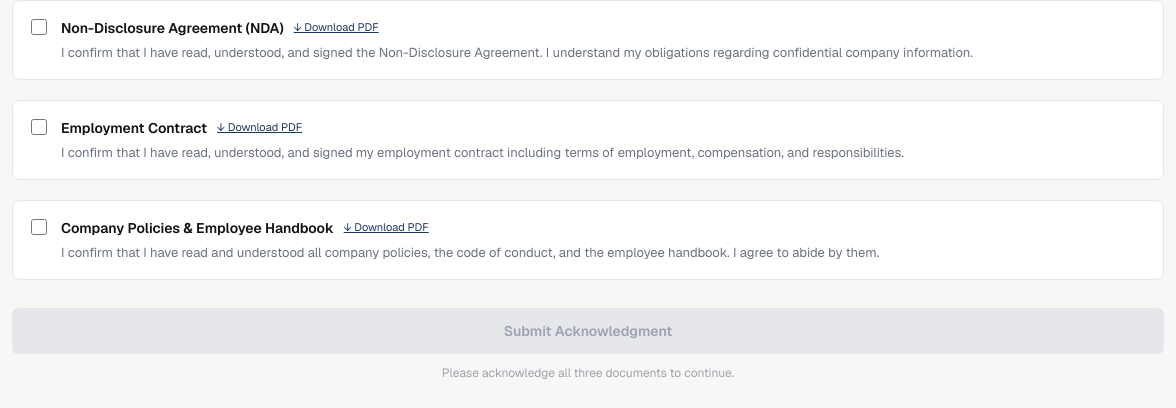
AcknowledgeForm › shows error message when the API returns a non-OK response
Click the 1st checkbox at (39, 27), box [31,19,47,35]
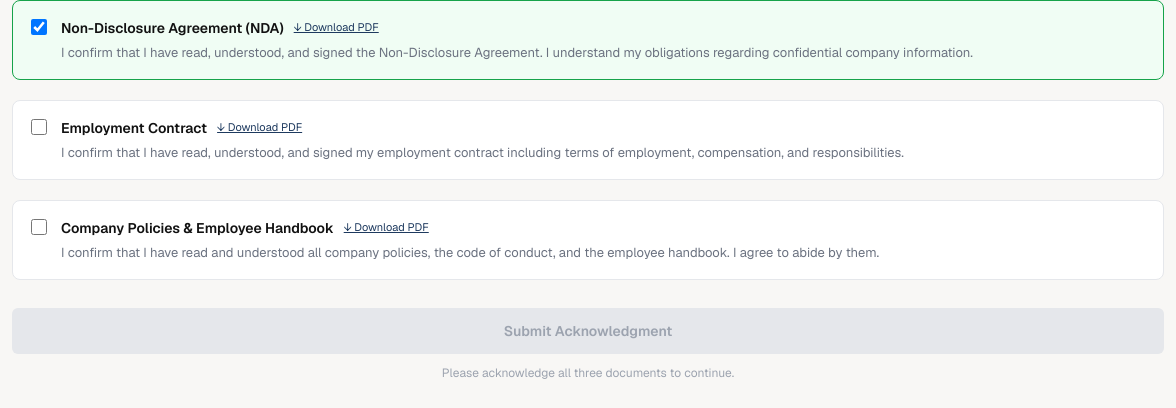
Click the 2nd checkbox at (39, 127), box [31,119,47,135]
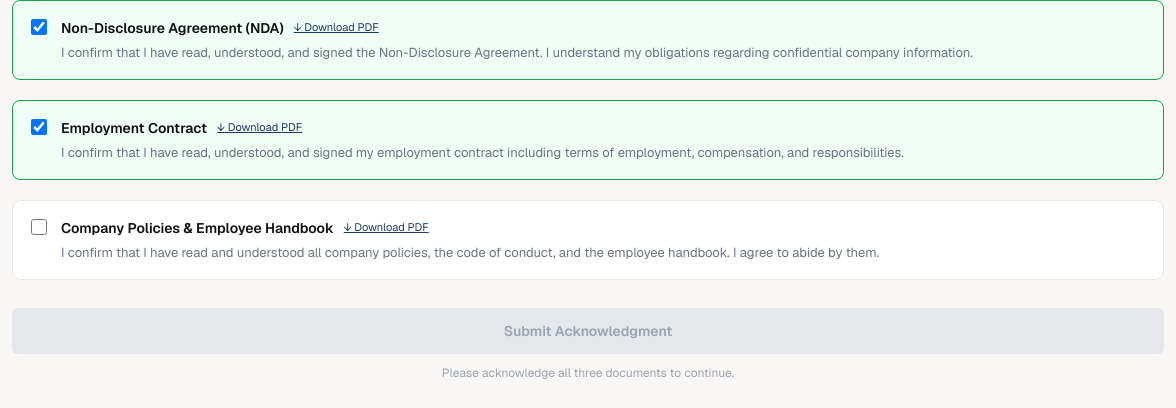
Click the 3rd checkbox at (39, 227), box [31,219,47,235]
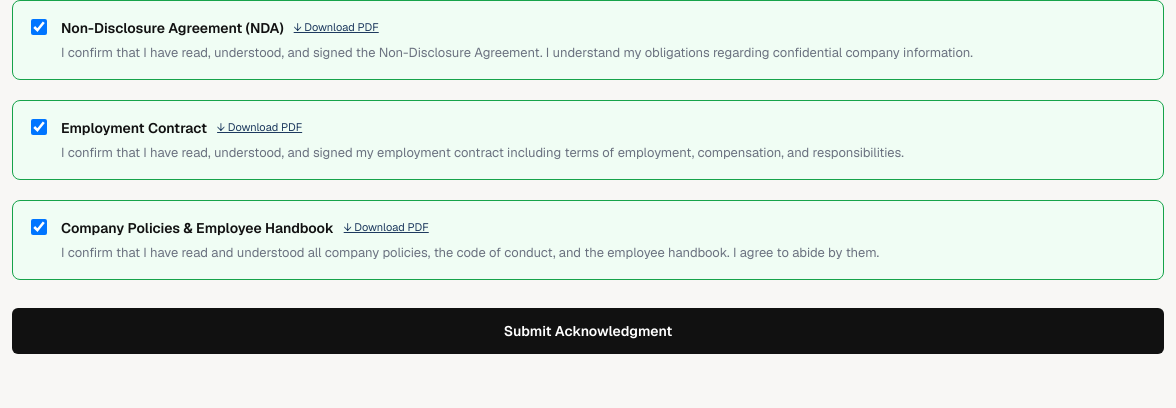
Click the button "Submit Acknowledgment" at (588, 331), box [12,308,1164,354]
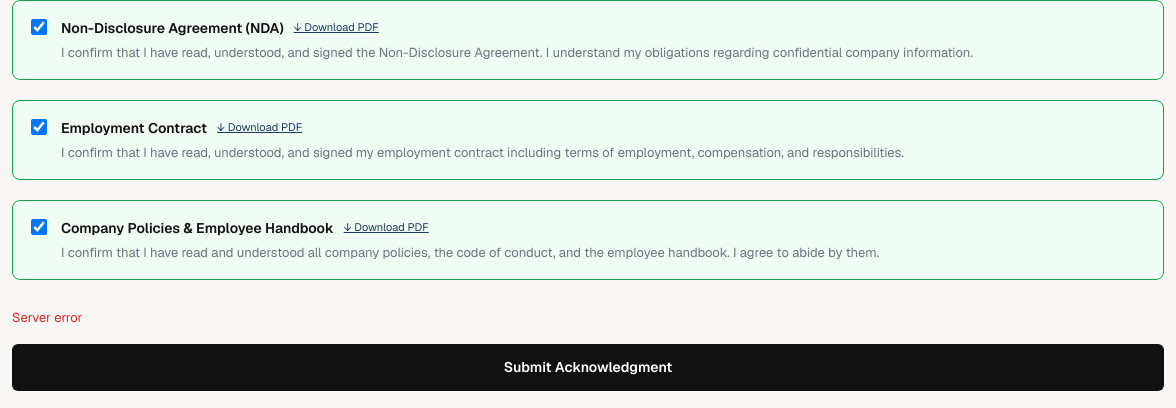
Check: the text "Server error" is shown, box [12,309,82,326]
